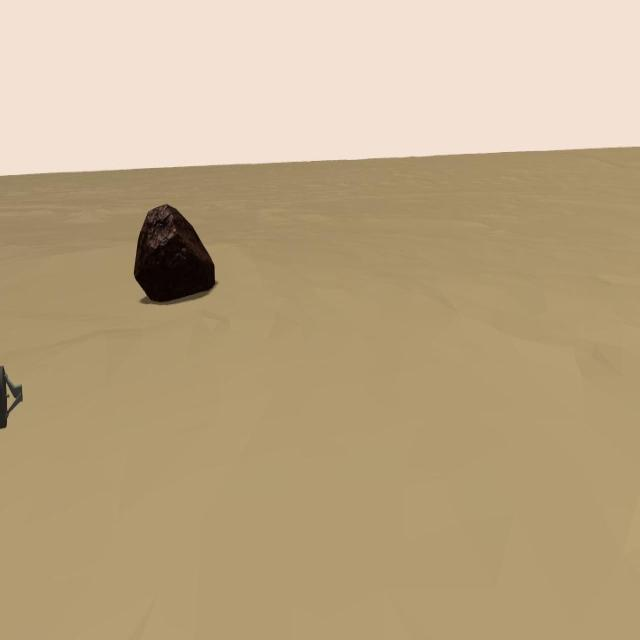rock: (134, 204, 215, 302)
